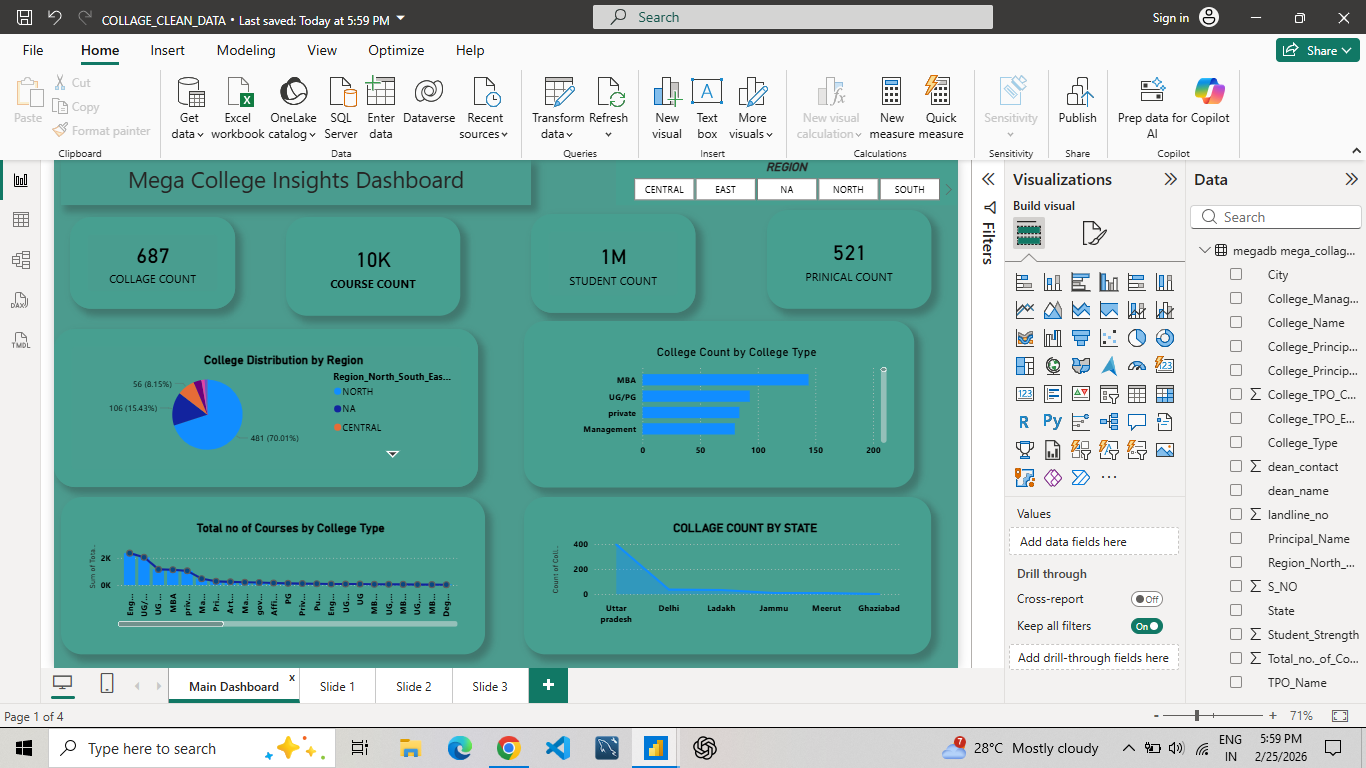

This screenshot's page, from the dashboard's own definition file:
{"tool":"powerbi","page":{"name":"Main Dashboard","canvas":[1280,720],"ordinal":0},"visuals":[{"type":"textbox","box":[10,0,665.7,64.3],"z":0},{"type":"slicer","title":"REGION","fields":{"Values":["megadb mega_collage_data.Region_North_South_East_West_Central"]},"box":[797.1,0,482.9,64.3],"z":1000},{"type":"card","title":"COLLAGE COUNT","fields":{"Values":["CountNonNull(megadb mega_collage_data.College_Name)"]},"box":[22.9,81.4,234.3,130],"z":2000},{"type":"card","fields":{"Values":["Sum(megadb mega_collage_data.Total_no._of_Courses)"]},"box":[328.6,81.4,247.1,140],"z":3000},{"type":"card","fields":{"Values":["Sum(megadb mega_collage_data.Student_Strength)"]},"box":[675.7,77.1,232.9,140],"z":4000},{"type":"card","fields":{"Values":["Count(megadb mega_collage_data.Principal_Name)"]},"box":[1010,71.4,232.9,140],"z":5000},{"type":"pieChart","title":"College Distribution by Region","fields":{"Category":["megadb mega_collage_data.Region_North_South_East_West_Central"],"Y":["CountNonNull(megadb mega_collage_data.College_Name)"]},"box":[0,239.5,600.9,223.9],"z":6000},{"type":"clusteredBarChart","title":"College Count by College Type","fields":{"Category":["megadb mega_collage_data.College_Type"],"Y":["CountNonNull(megadb mega_collage_data.College_Name)"]},"box":[665.7,228.6,552.9,235.7],"z":7000},{"type":"areaChart","title":"COLLAGE COUNT BY STATE","fields":{"Category":["megadb mega_collage_data.State"],"Y":["Count(megadb mega_collage_data.College_Name)"]},"box":[665.7,477.1,577.1,222.9],"z":8000},{"type":"lineStackedColumnComboChart","title":"Total no of Courses by College Type","fields":{"Category":["megadb mega_collage_data.College_Type"],"Y":["Sum(megadb mega_collage_data.Total_no._of_Courses)"],"Y2":["Sum(megadb mega_collage_data.Total_no._of_Courses)"]},"box":[10,477.1,601.4,222.9],"z":9000}]}

Visuals, with their boxes on the page's 1280x720 design canvas (x1, y1, x2, y2). These are canvas units, not pixel positions in the 1366x768 screenshot, which may show the page scaled, cropped or inside an application window:
textbox: x1=10, y1=0, x2=676, y2=64
"REGION" slicer: x1=797, y1=0, x2=1280, y2=64
"COLLAGE COUNT" card: x1=23, y1=81, x2=257, y2=211
card - Sum(megadb mega_collage_data.Total_no._of_Courses): x1=329, y1=81, x2=576, y2=221
card - Sum(megadb mega_collage_data.Student_Strength): x1=676, y1=77, x2=909, y2=217
card - Count(megadb mega_collage_data.Principal_Name): x1=1010, y1=71, x2=1243, y2=211
"College Distribution by Region" pieChart: x1=0, y1=240, x2=601, y2=463
"College Count by College Type" clusteredBarChart: x1=666, y1=229, x2=1219, y2=464
"COLLAGE COUNT BY STATE" areaChart: x1=666, y1=477, x2=1243, y2=700
"Total no of Courses by College Type" lineStackedColumnComboChart: x1=10, y1=477, x2=611, y2=700
